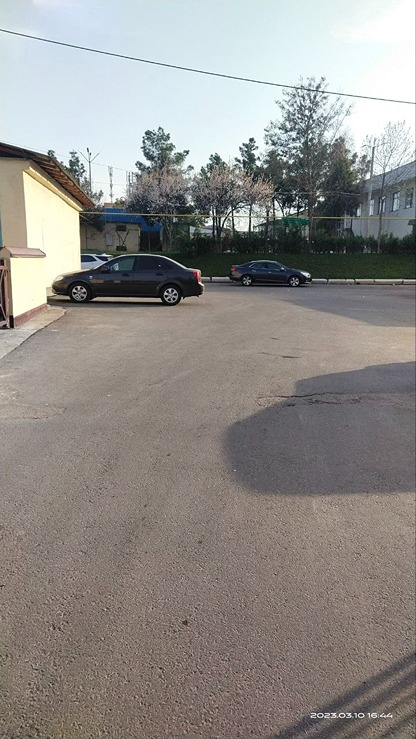car: (47, 253, 200, 309), (225, 247, 323, 293)
tree: (281, 79, 358, 238), (195, 160, 266, 235), (136, 161, 188, 243)
